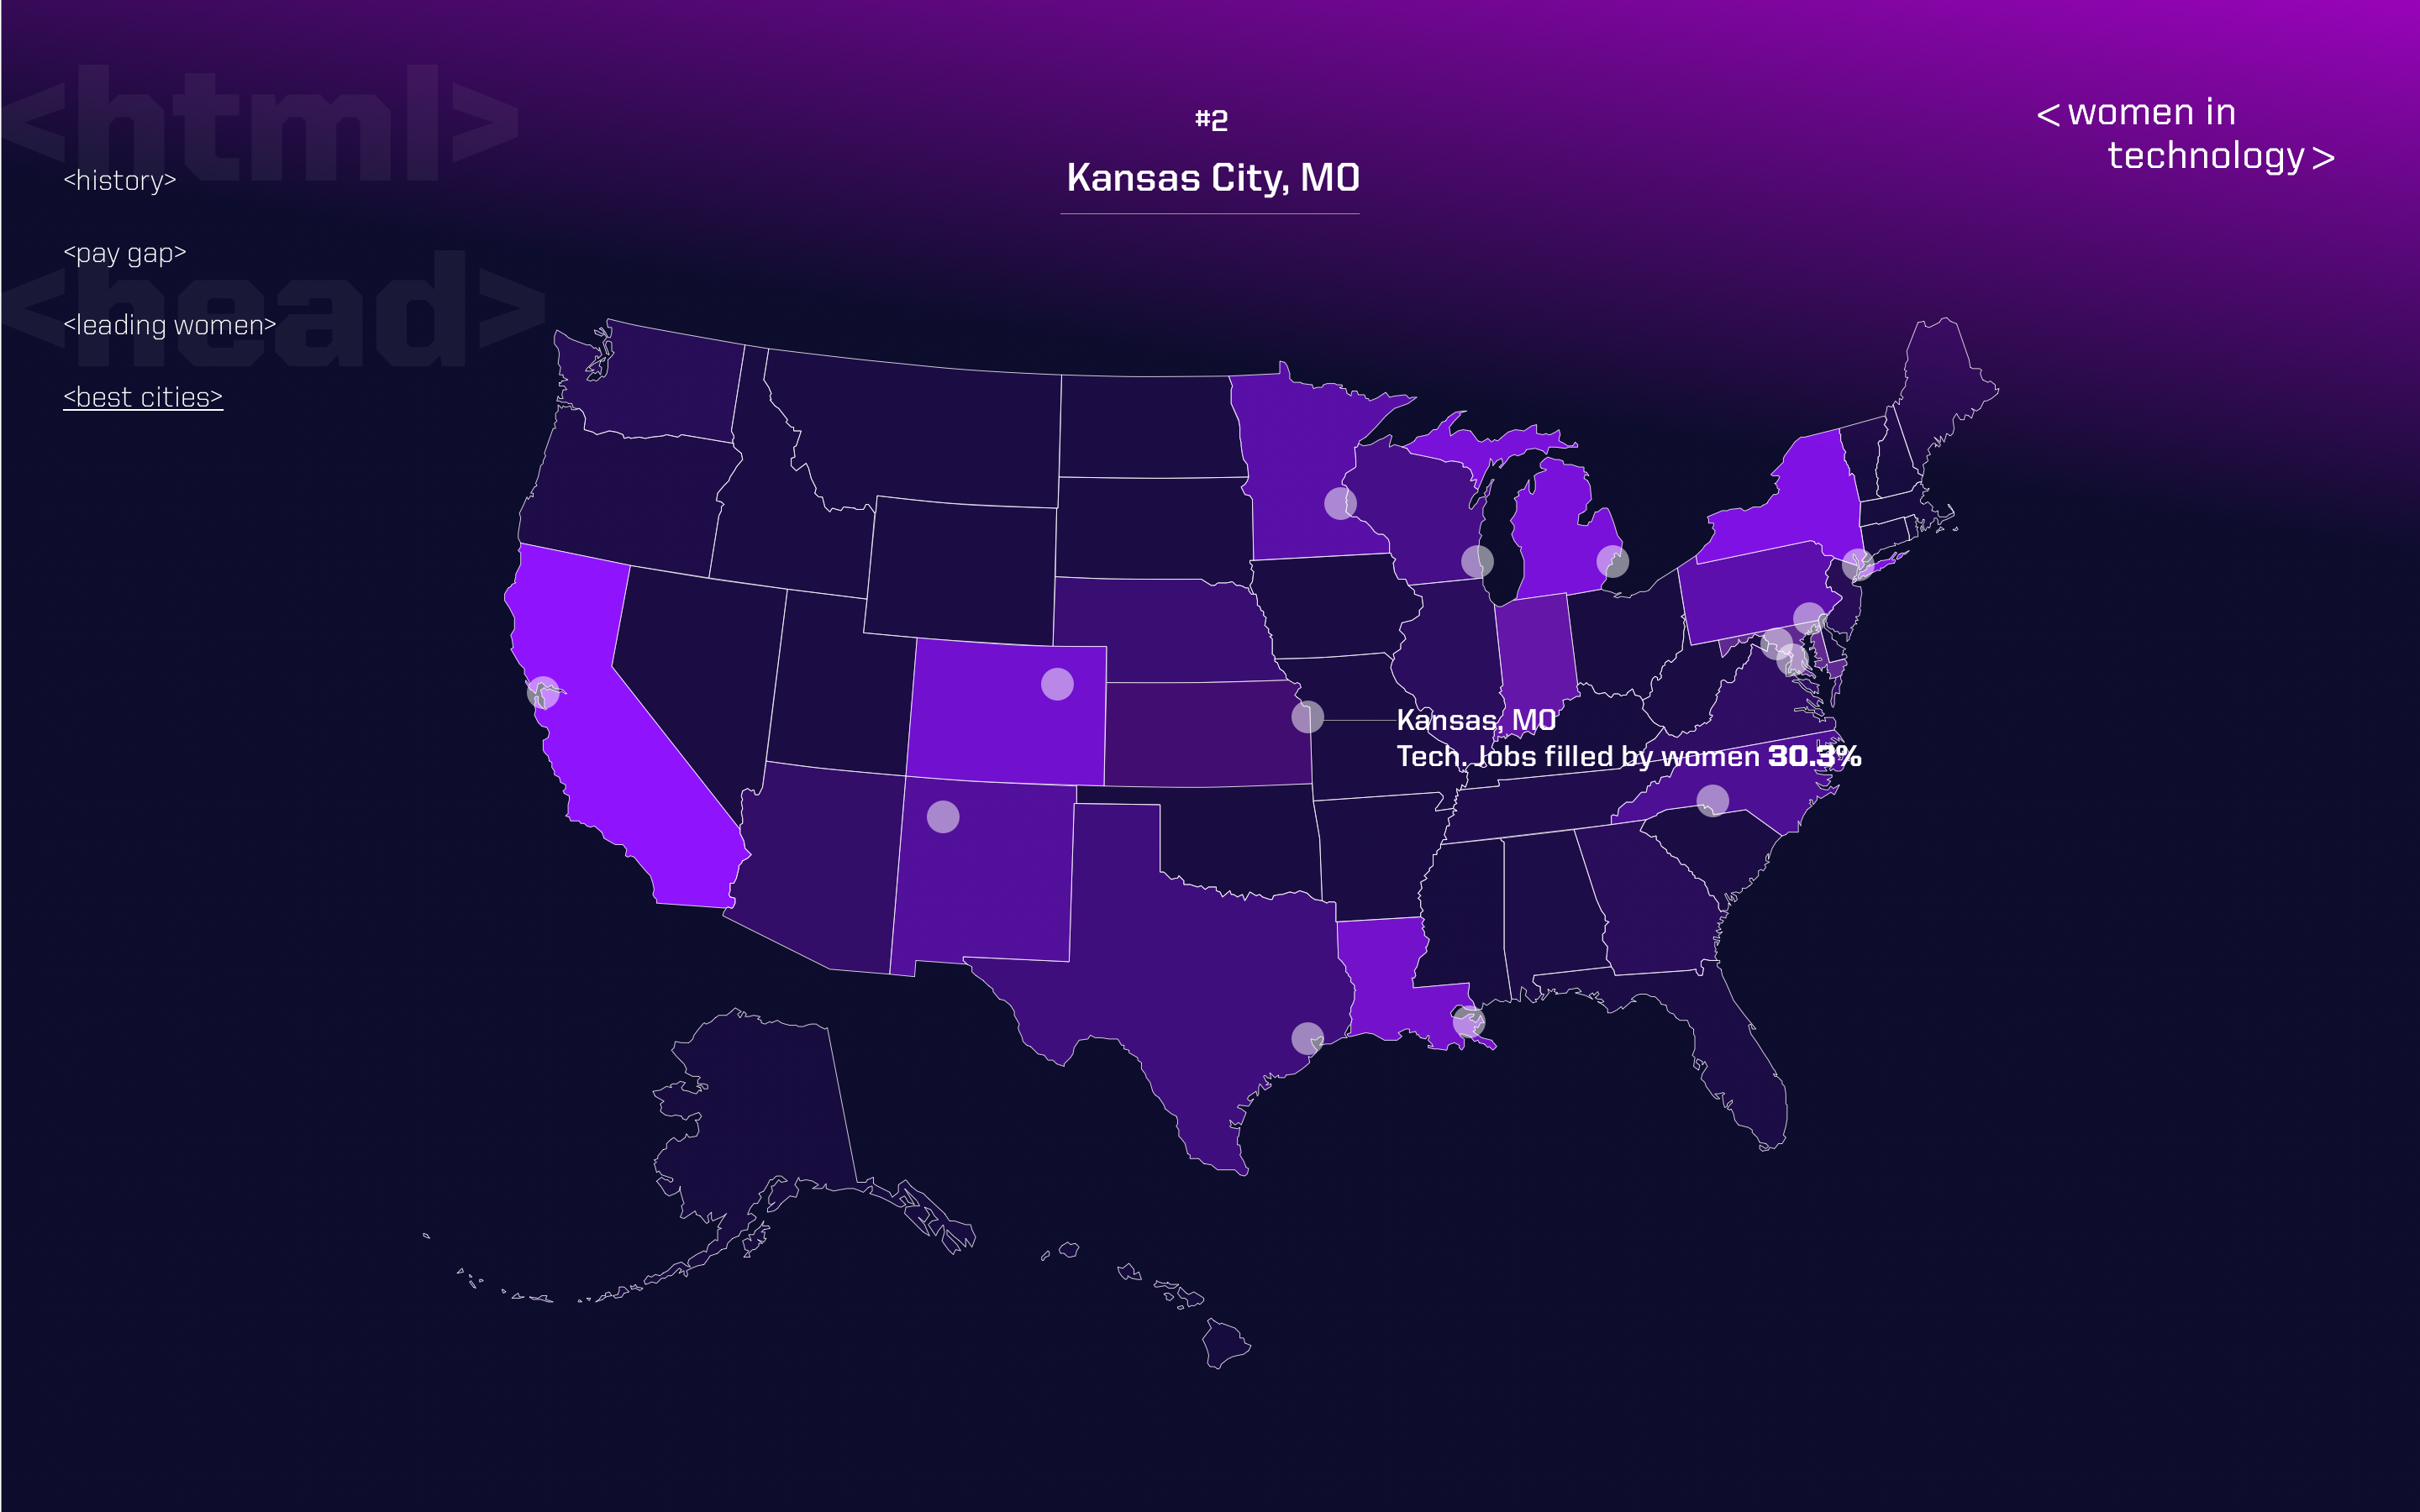

The dashboard page shown, as its layout file describes it:
{"tool":"tableau","page":{"name":"The Best Cities for Women in Tech","canvas":[1020,625],"ordinal":0},"visuals":[{"type":"web page","param":"https://smartasset.com/career/best-cities-women-tech","box":[0,0,510,625]},{"type":"worksheet","title":"The Best Cities for WIT","mark":"Automatic","box":[510,0,510,625]}]}

Visuals, with their boxes in screenshot pixels (x1, y1, x2, y2), scaled from the page's 1020x625 canvas onto the 2420x1512 screenshot:
web page: [left=0, top=0, right=1210, bottom=1511]
"The Best Cities for WIT" worksheet: [left=1210, top=0, right=2419, bottom=1511]
